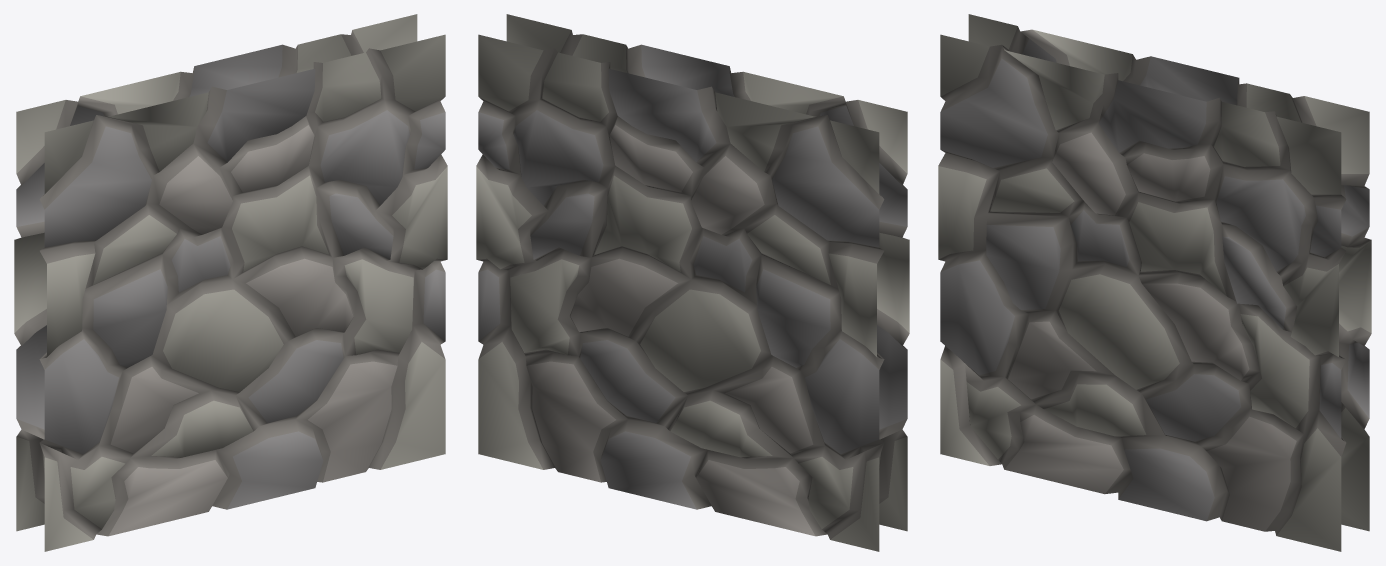
File: rpgpp_ag_wall_03_3x3_a.fbx
3 renders of one model, left to right at view 1: azimuth 30°, elevation 25°; view 2: azimuth 150°, elevation 25°; view 3: azimuth 330°, elevation 25°, orthographic.
Visible parts, largest first — view 1: rpgpp_ag_wall_03_3x3_a; view 2: rpgpp_ag_wall_03_3x3_a; view 3: rpgpp_ag_wall_03_3x3_a.
Boxes of the visible parts, <box> form: rpgpp_ag_wall_03_3x3_a: <box>14,14,447,551</box>; rpgpp_ag_wall_03_3x3_a: <box>476,14,909,551</box>; rpgpp_ag_wall_03_3x3_a: <box>938,14,1371,551</box>.
Size of the model in its own units: 3 by 3 by 0.4237.
